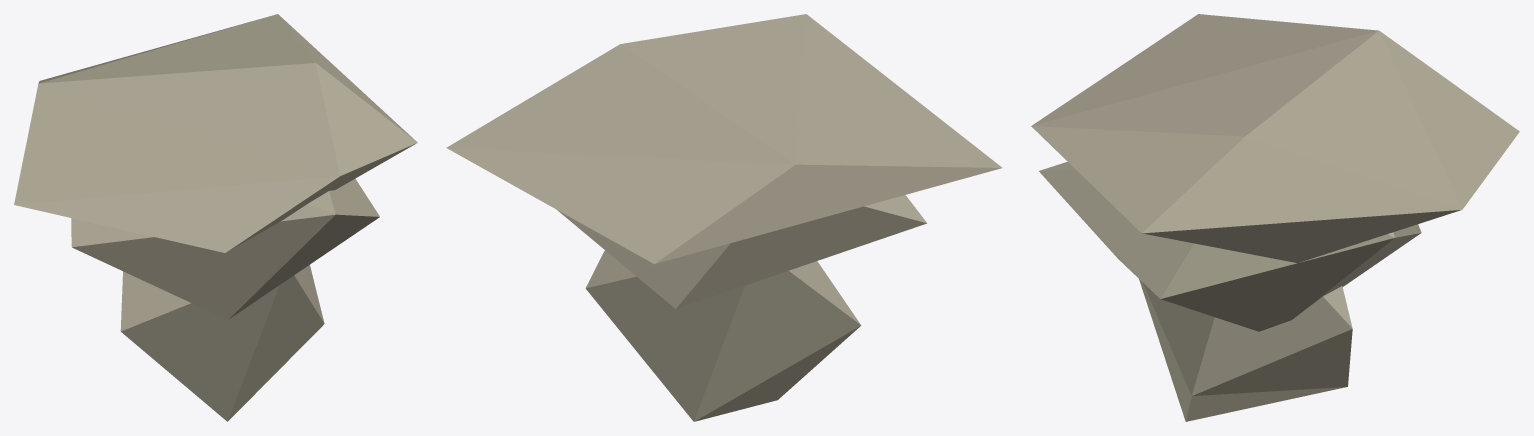
3 views of the same model, side by side, from view 1: azimuth 30°, elevation 25°; view 2: azimuth 150°, elevation 25°; view 3: azimuth 270°, elevation 25° (orthographic). The views are drawn at different scales.
Visible parts, largest first — view 1: 石头_18; view 2: 石头_18; view 3: 石头_18.
Part boxes in pixels (x1,y1,x2,y2): 石头_18: (14, 14, 417, 421); 石头_18: (446, 14, 1002, 421); 石头_18: (1031, 14, 1519, 421).
Bounding box in the file's own units: 1.4 × 1.09 × 1.38.
